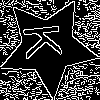K: (23, 21, 71, 60)
